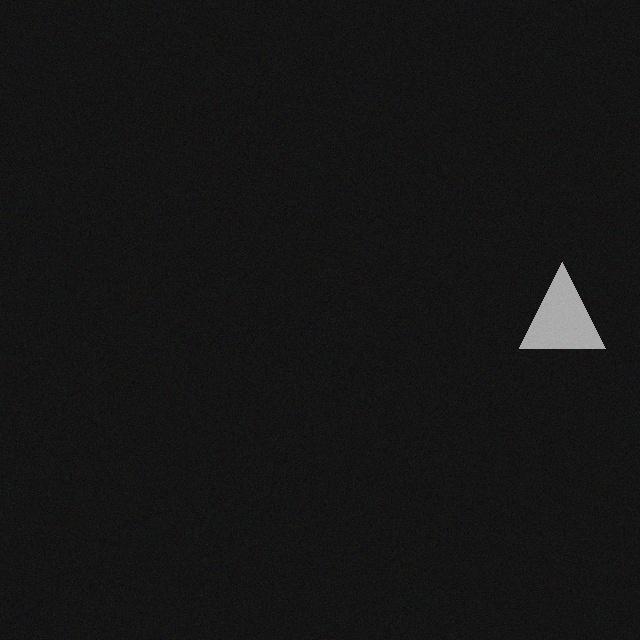triangle: (521, 262, 607, 348)
